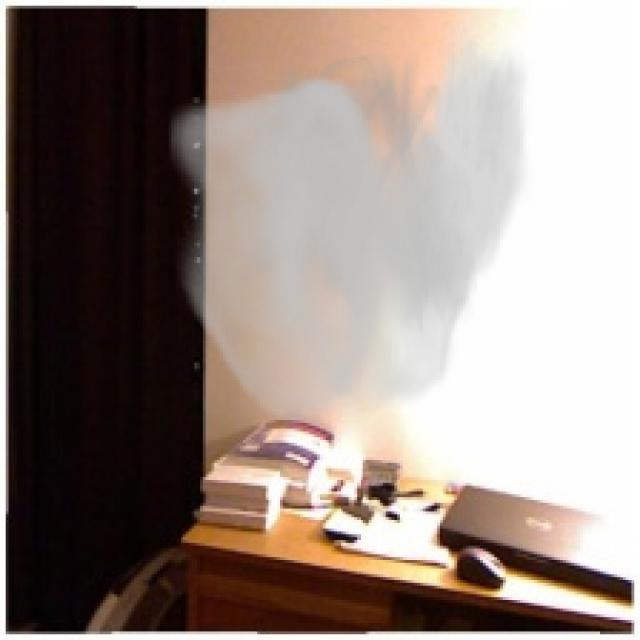smoke: (169, 29, 534, 437)
